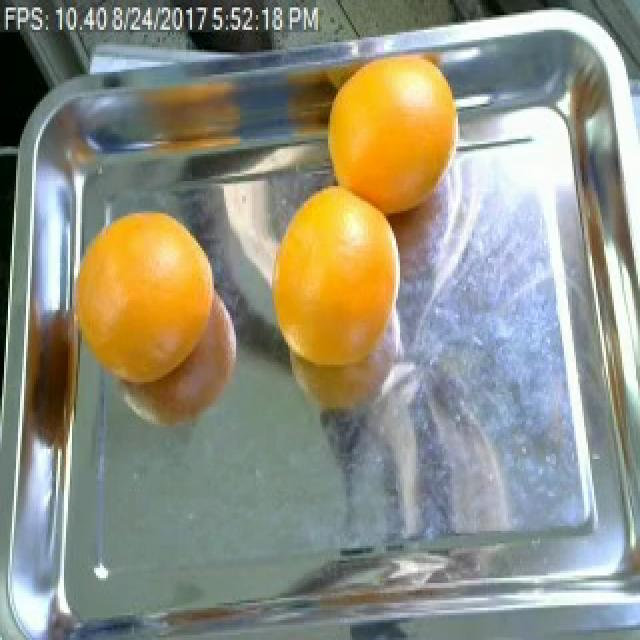Fruit: (308, 47, 474, 248), (74, 270, 250, 444)
